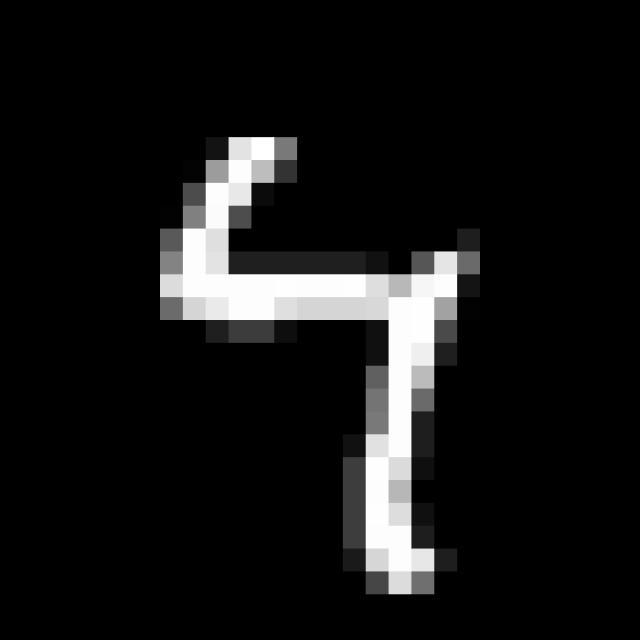four -4-: (135, 114, 492, 612)
